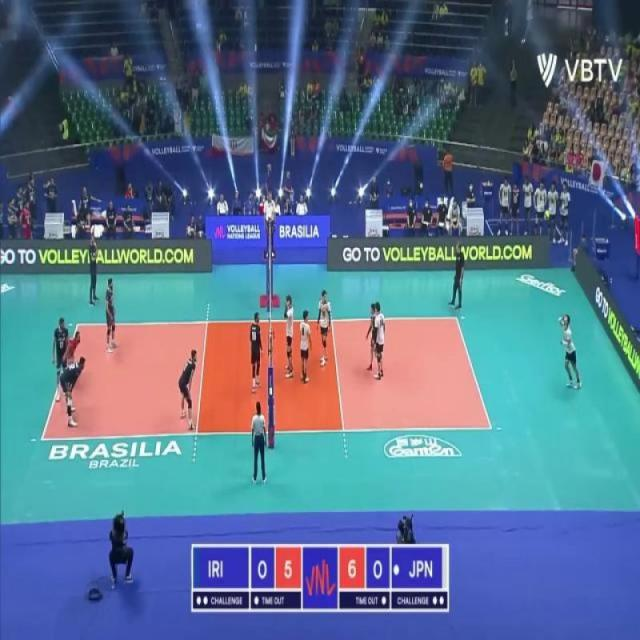volleyball: (544, 206, 551, 222)
